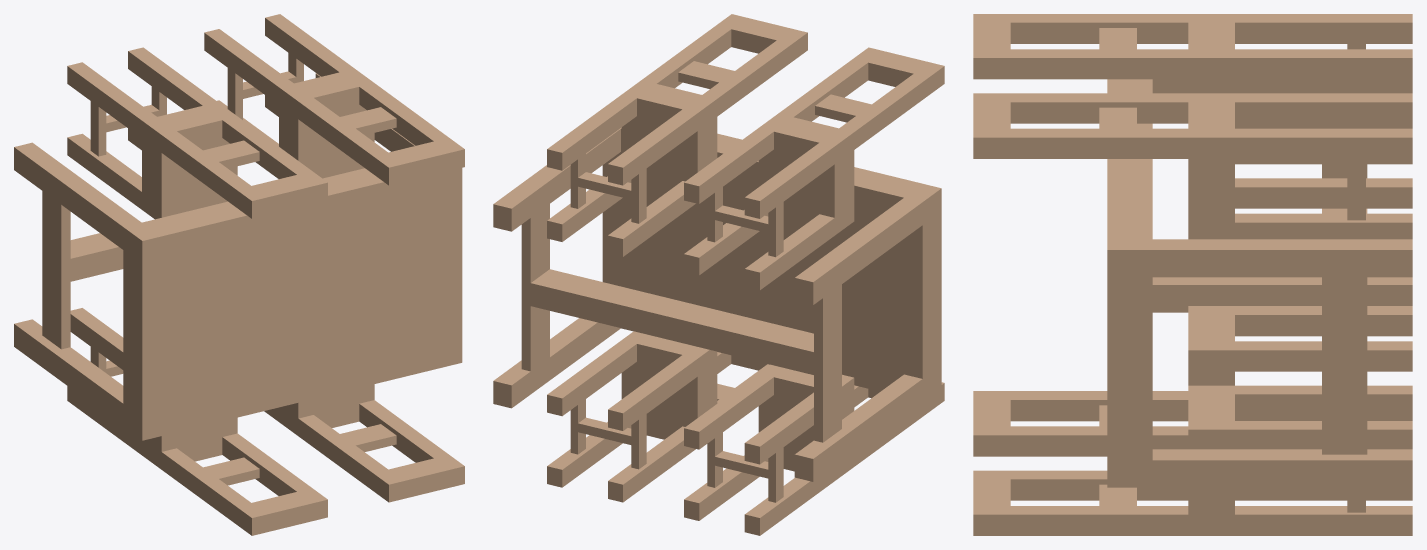
File: dining-set.glb
3 renders of one model, left to right at view 1: azimuth 30°, elevation 25°; view 2: azimuth 150°, elevation 25°; view 3: azimuth 270°, elevation 25°, orthographic. The views are drawn at different scales.
Visible parts, largest first — view 1: furniture/dining-set; view 2: furniture/dining-set; view 3: furniture/dining-set.
Part boxes in pixels (left/top/right/bottom): furniture/dining-set: left=14, top=14, right=464, bottom=535; furniture/dining-set: left=493, top=14, right=944, bottom=535; furniture/dining-set: left=973, top=14, right=1412, bottom=535.
Bounding box in the file's own units: 1 × 1 × 1.
